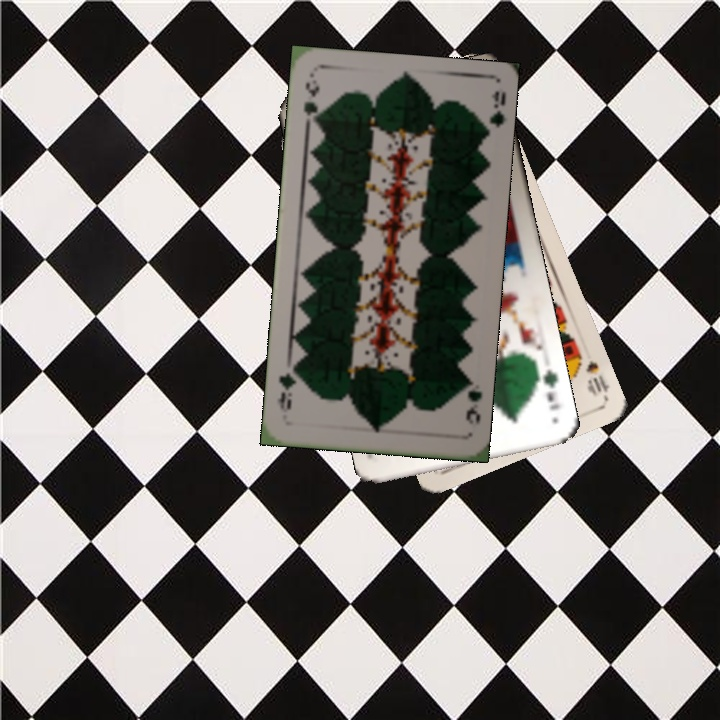G9: (458, 375, 485, 427), (300, 76, 322, 127)
GK: (538, 366, 563, 413)
S10: (581, 355, 612, 400)
